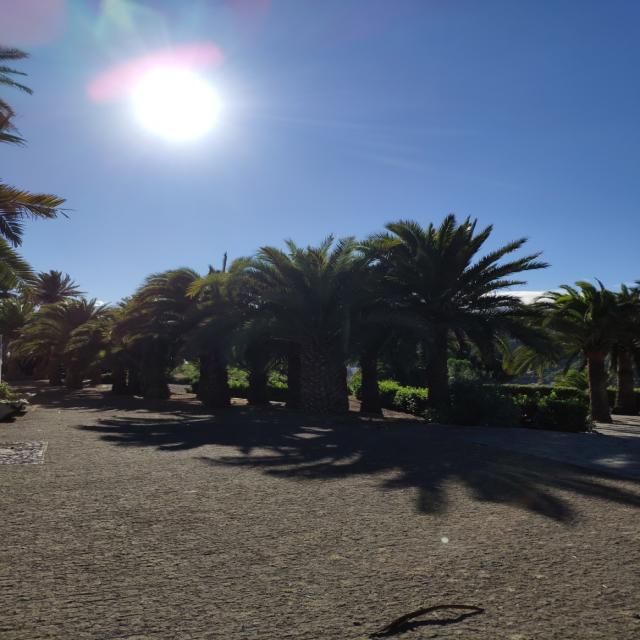Palm-Trees: (362, 215, 524, 417), (544, 278, 640, 424)
